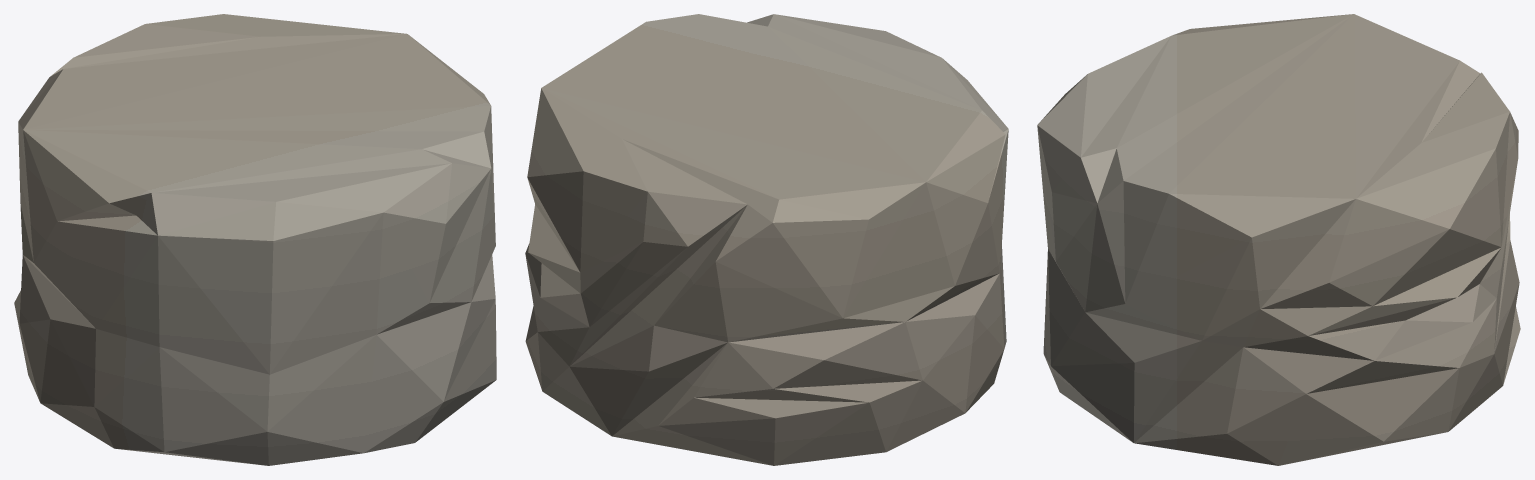
Rendered from YN_CircleStone1.fbx.
3 views of the same model, side by side, from view 1: azimuth 30°, elevation 25°; view 2: azimuth 150°, elevation 25°; view 3: azimuth 270°, elevation 25° (orthographic).
Visible parts, largest first — view 1: CircleStone1; view 2: CircleStone1; view 3: CircleStone1.
Part boxes in pixels (left/top/right/bottom): CircleStone1: left=14, top=14, right=496, bottom=465; CircleStone1: left=525, top=14, right=1008, bottom=465; CircleStone1: left=1037, top=14, right=1520, bottom=465.
Bounding box in the file's own units: 1.65 × 0.9877 × 1.65.
